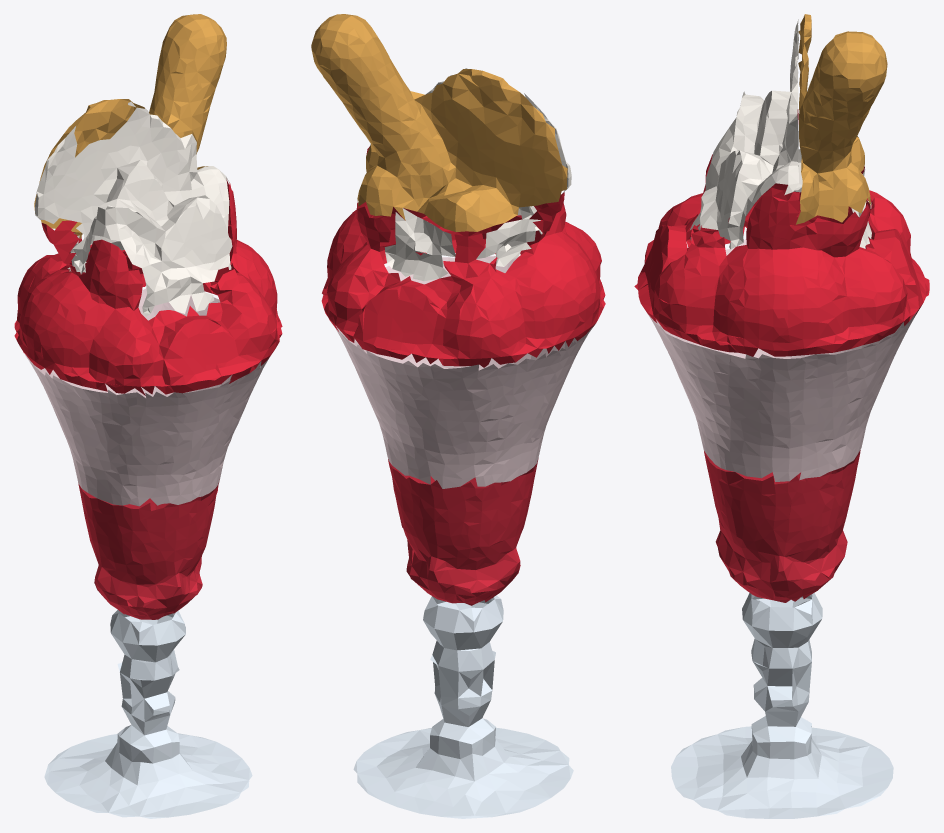
File: StrawberryParfait.obj
3 renders of one model, left to right at view 1: azimuth 30°, elevation 25°; view 2: azimuth 150°, elevation 25°; view 3: azimuth 270°, elevation 25°, orthographic. The views are drawn at different scales.
Visible parts, largest first — view 1: Berry, Cream, Stem, Layer, Sauce, Wafer; view 2: Berry, Wafer, Stem, Layer, Sauce, Cream; view 3: Berry, Stem, Layer, Sauce, Wafer, Cream.
Part boxes in pixels (x1=…): Berry: x1=14, y1=179, x2=282, y2=395; Cream: x1=35, y1=102, x2=232, y2=316; Stem: x1=44, y1=610, x2=252, y2=818; Layer: x1=25, y1=288, x2=269, y2=506; Sauce: x1=78, y1=481, x2=219, y2=619; Wafer: x1=34, y1=14, x2=226, y2=238; Berry: x1=321, y1=146, x2=605, y2=367; Wafer: x1=311, y1=14, x2=567, y2=231; Stem: x1=353, y1=595, x2=573, y2=818; Layer: x1=335, y1=256, x2=595, y2=488; Sauce: x1=388, y1=458, x2=538, y2=605; Cream: x1=384, y1=68, x2=571, y2=281; Berry: x1=634, y1=109, x2=929, y2=356; Stem: x1=671, y1=593, x2=893, y2=818; Layer: x1=648, y1=239, x2=917, y2=481; Sauce: x1=704, y1=450, x2=860, y2=602; Wafer: x1=796, y1=14, x2=887, y2=224; Cream: x1=690, y1=19, x2=871, y2=249.
Size of the model in its own units: 1.04 by 3 by 1.02.
